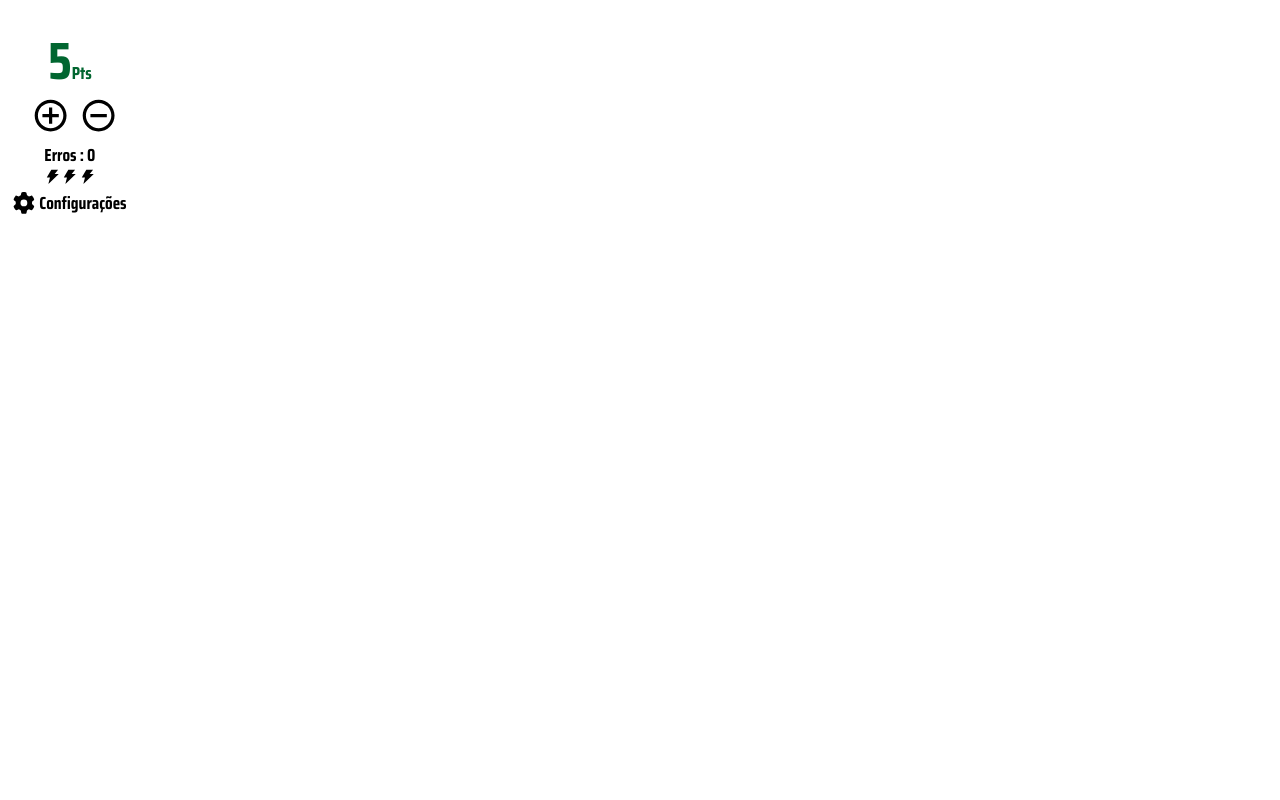
Test: CountCard Config › deve exibir texto Muito Bom quando comportamento = 5
Click the text "Configurações": [70, 203] box [13,189,127,217]
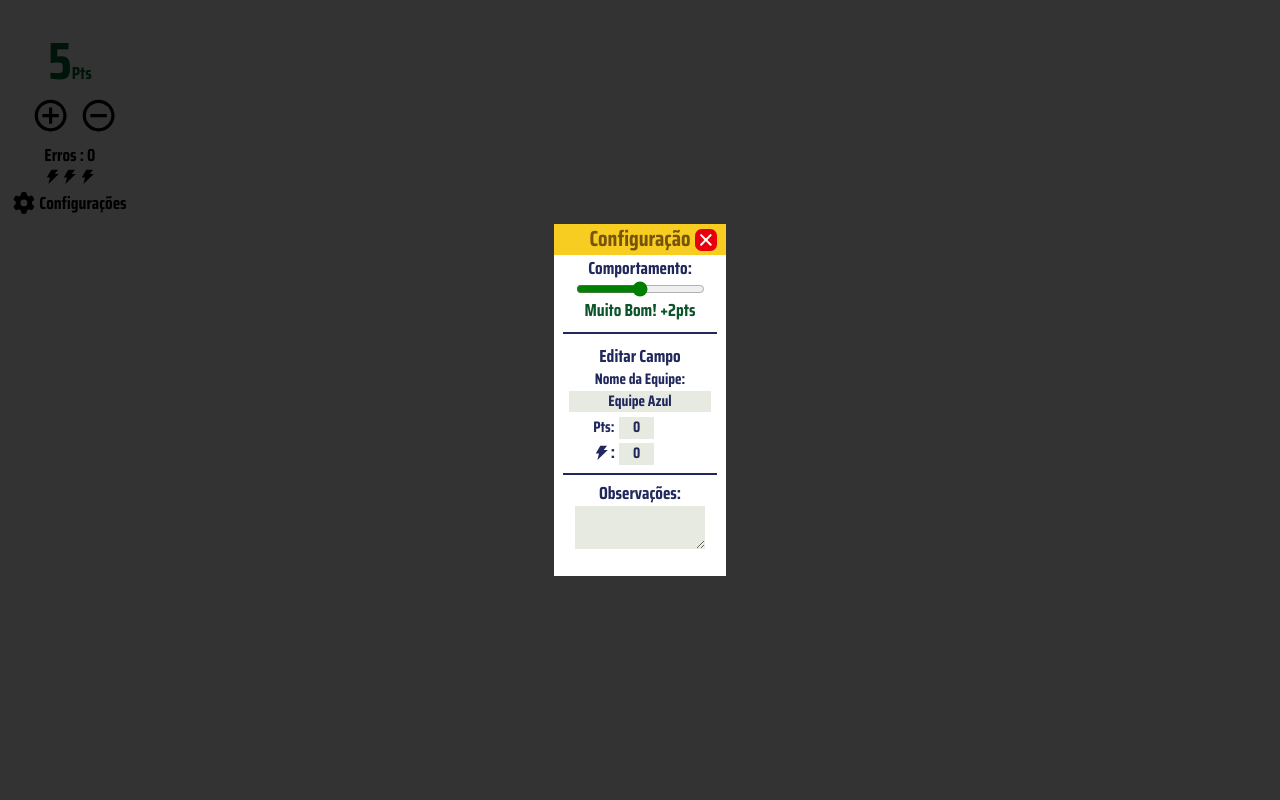
expect the text "Muito Bom! +2pts" is shown: met, box [585,297,695,323]
